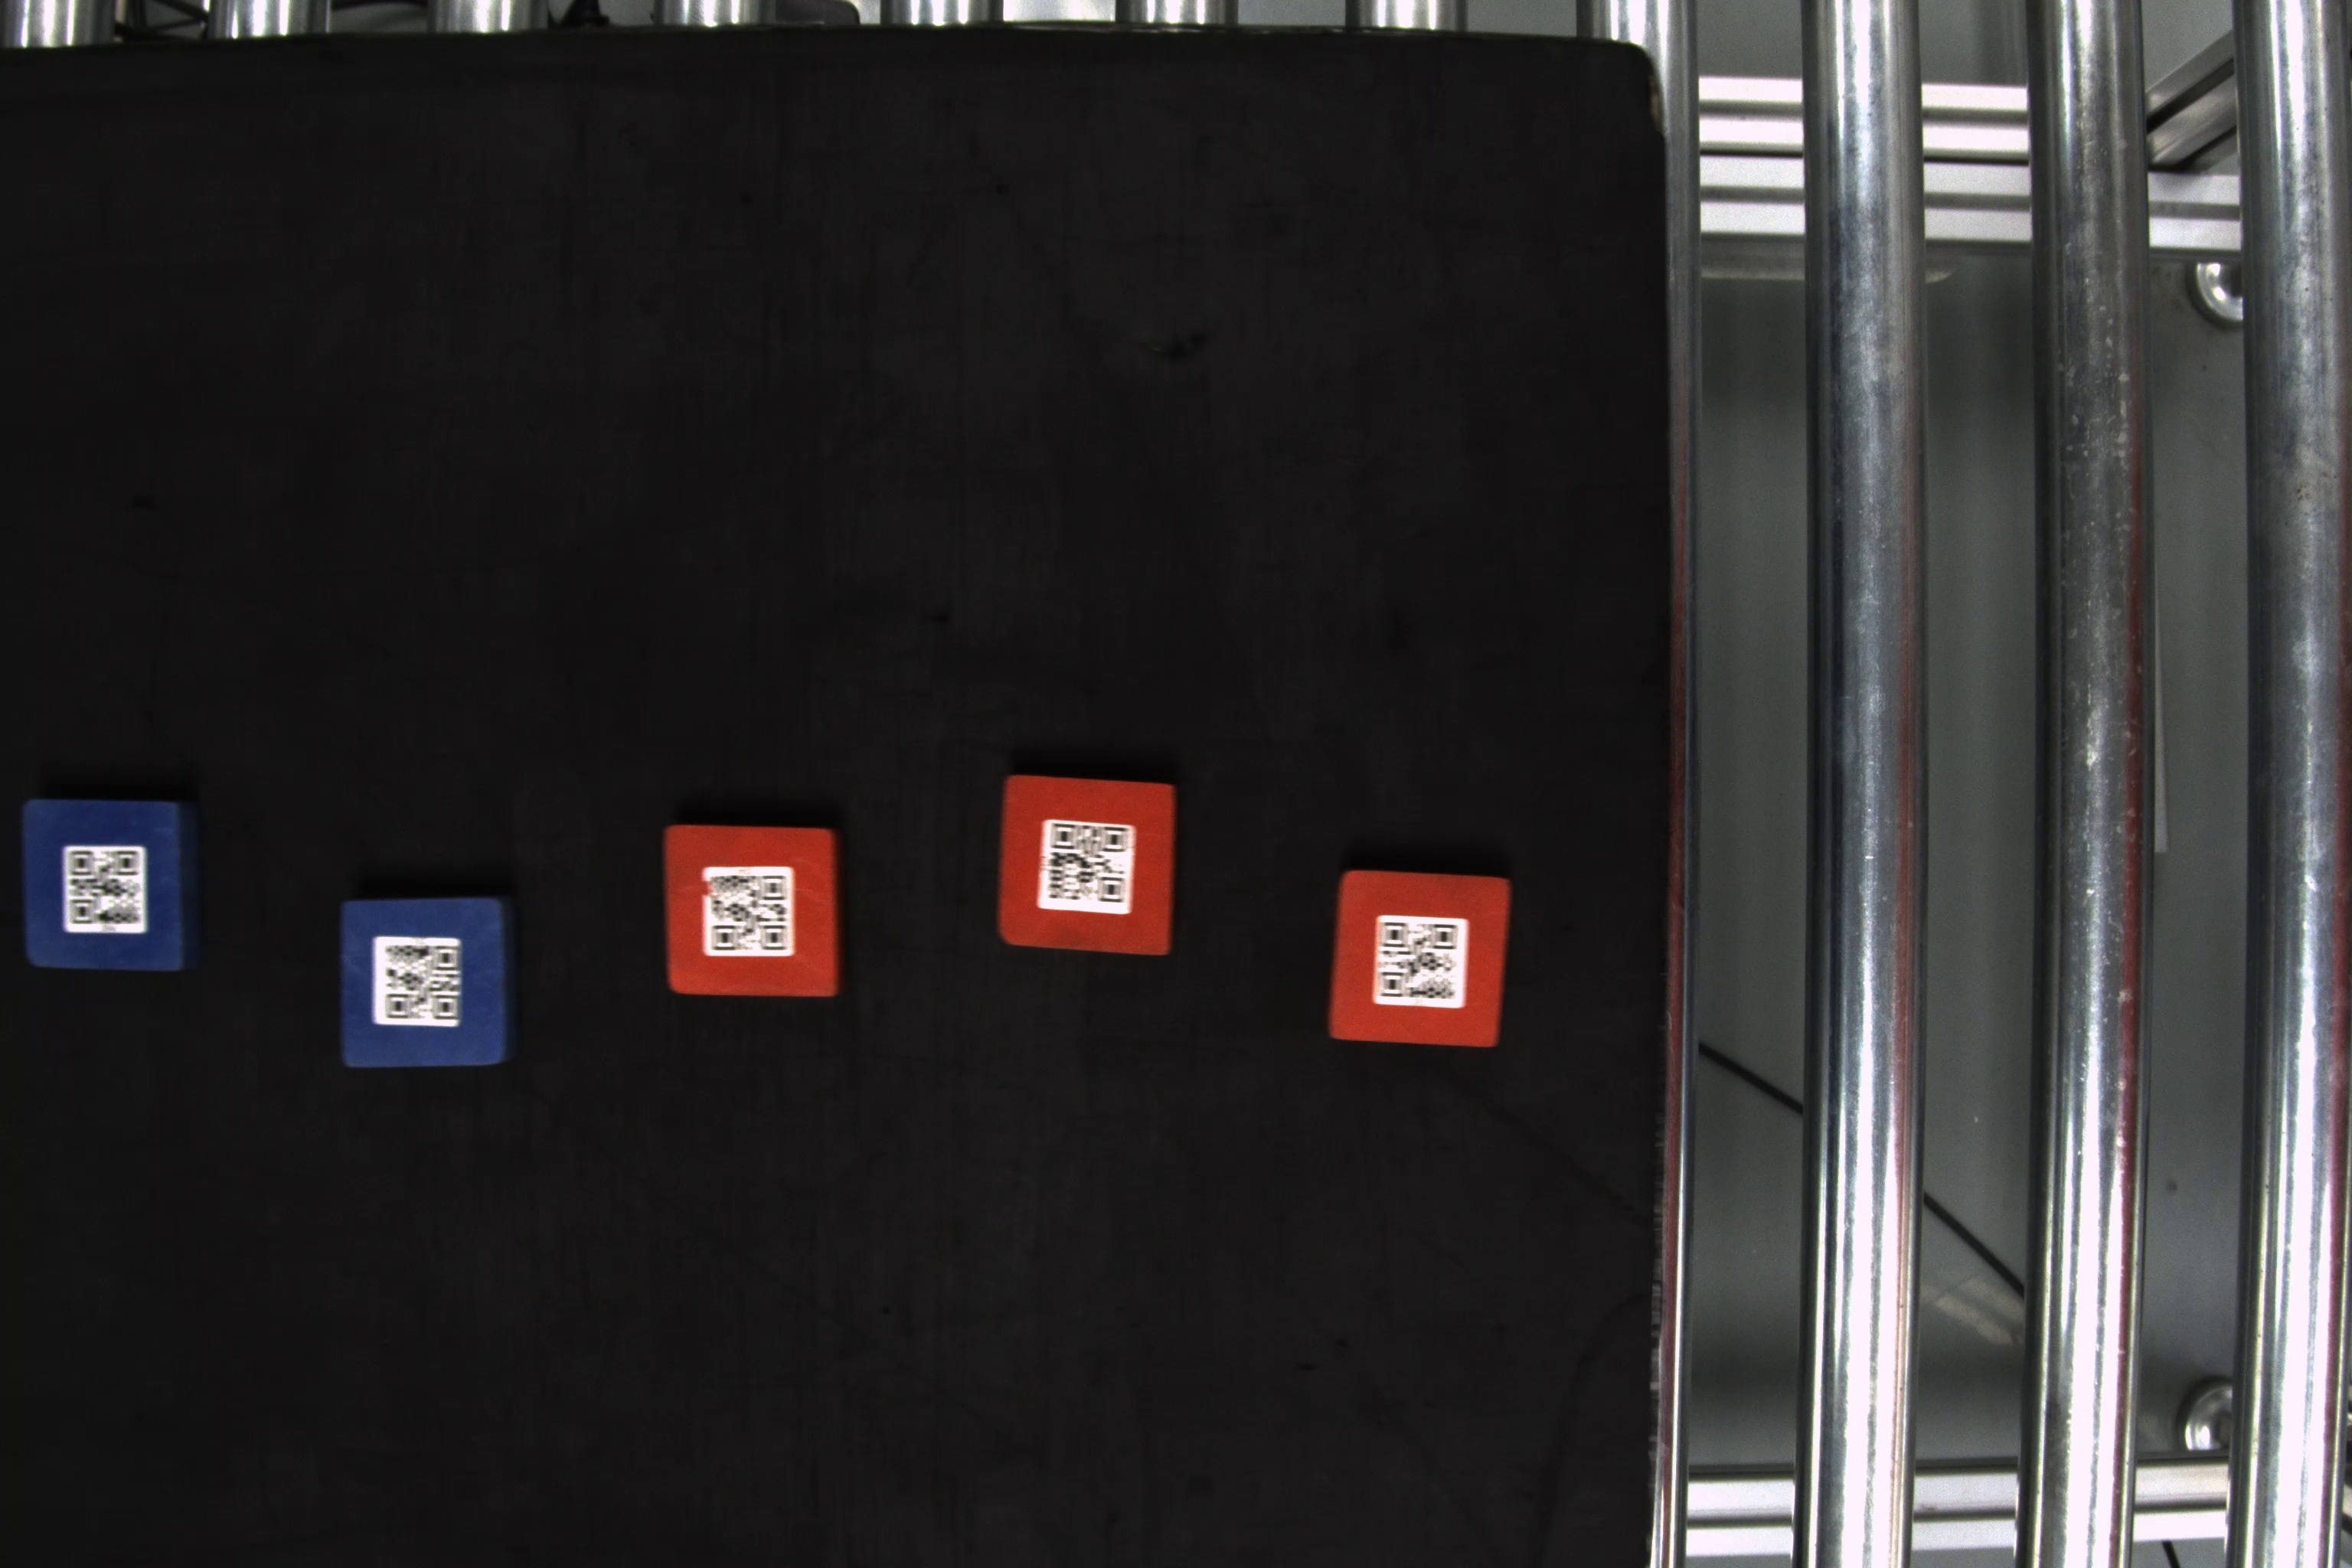wood: (992, 772, 1185, 961), (1332, 857, 1517, 1053), (334, 887, 521, 1074), (14, 794, 199, 980), (658, 822, 847, 1003)
